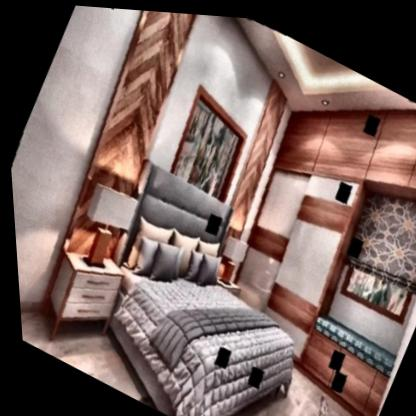Bed: (52, 151, 350, 416)
Lamp: (58, 173, 144, 279)
Nightstand: (17, 231, 135, 365)
